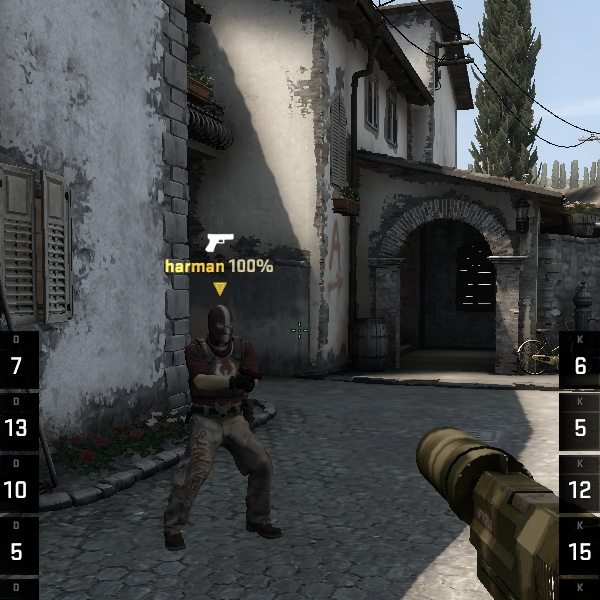t_body: (151, 294, 290, 550)
t_head: (194, 300, 245, 354)
